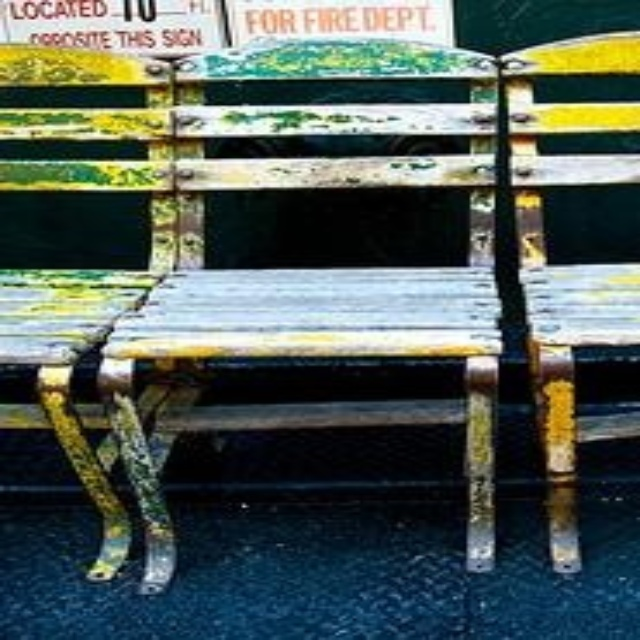obstacle: (0, 31, 637, 589)
